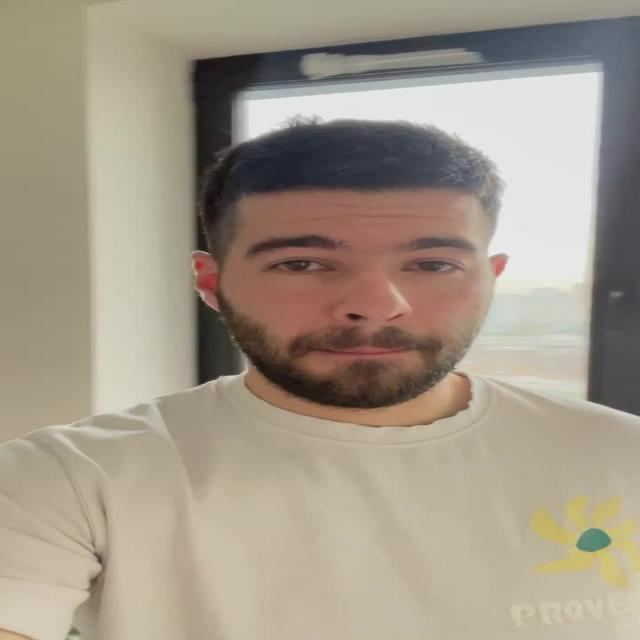earlobe: (201, 291, 222, 313)
eye: (268, 259, 333, 274), (402, 261, 461, 275)
nose: (336, 318, 406, 345)
wholeear: (190, 251, 222, 313), (488, 253, 510, 279)
